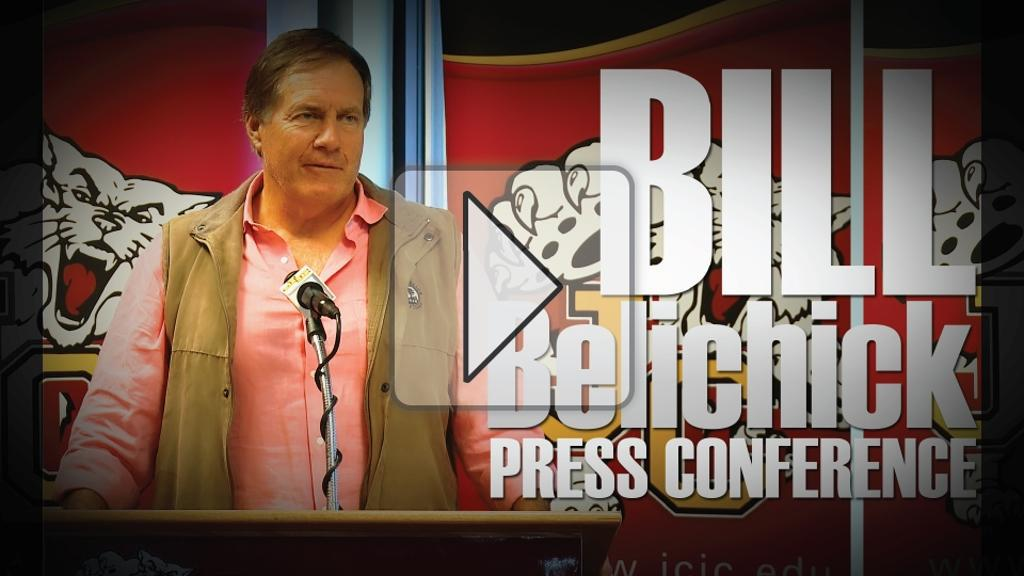face: (263, 71, 361, 207)
